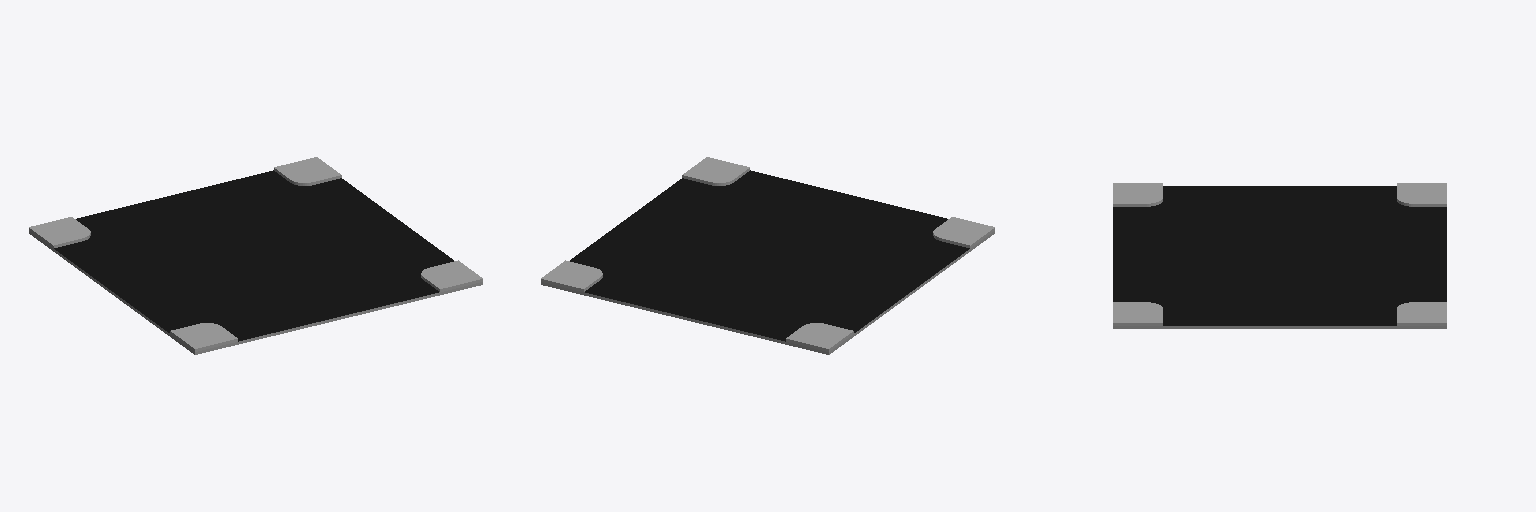
The model's file is intersection_4way.obj.
3 renders of one model, left to right at view 1: azimuth 30°, elevation 25°; view 2: azimuth 150°, elevation 25°; view 3: azimuth 270°, elevation 25°, orthographic.
Parts seen in each view (by area): view 1: SketchUp.008_ID62, SketchUp.001_ID11, SketchUp.005_ID44, SketchUp.004_ID36, SketchUp.010_ID76, SketchUp.007_ID56; view 2: SketchUp.008_ID62, SketchUp.001_ID11, SketchUp.007_ID56, SketchUp.010_ID76, SketchUp.004_ID36, SketchUp.005_ID44; view 3: SketchUp.008_ID62, SketchUp.010_ID76, SketchUp.007_ID56, SketchUp.005_ID44, SketchUp.004_ID36, SketchUp.001_ID11.
Boxes of the visible parts, x1=… form: SketchUp.008_ID62: x1=54, y1=170, x2=453, y2=341; SketchUp.001_ID11: x1=29, y1=231, x2=482, y2=354; SketchUp.005_ID44: x1=274, y1=157, x2=341, y2=185; SketchUp.004_ID36: x1=170, y1=323, x2=237, y2=351; SketchUp.010_ID76: x1=29, y1=217, x2=90, y2=248; SketchUp.007_ID56: x1=421, y1=260, x2=482, y2=291; SketchUp.008_ID62: x1=570, y1=170, x2=969, y2=341; SketchUp.001_ID11: x1=541, y1=231, x2=994, y2=354; SketchUp.007_ID56: x1=682, y1=157, x2=749, y2=185; SketchUp.010_ID76: x1=786, y1=323, x2=853, y2=351; SketchUp.004_ID36: x1=933, y1=217, x2=994, y2=248; SketchUp.005_ID44: x1=541, y1=260, x2=602, y2=291; SketchUp.008_ID62: x1=1113, y1=186, x2=1446, y2=325; SketchUp.010_ID76: x1=1397, y1=183, x2=1446, y2=206; SketchUp.007_ID56: x1=1113, y1=302, x2=1162, y2=325; SketchUp.005_ID44: x1=1397, y1=302, x2=1446, y2=325; SketchUp.004_ID36: x1=1113, y1=183, x2=1162, y2=206; SketchUp.001_ID11: x1=1113, y1=326, x2=1446, y2=328.
Bounding box in the file's own units: 10 × 0.2 × 10.